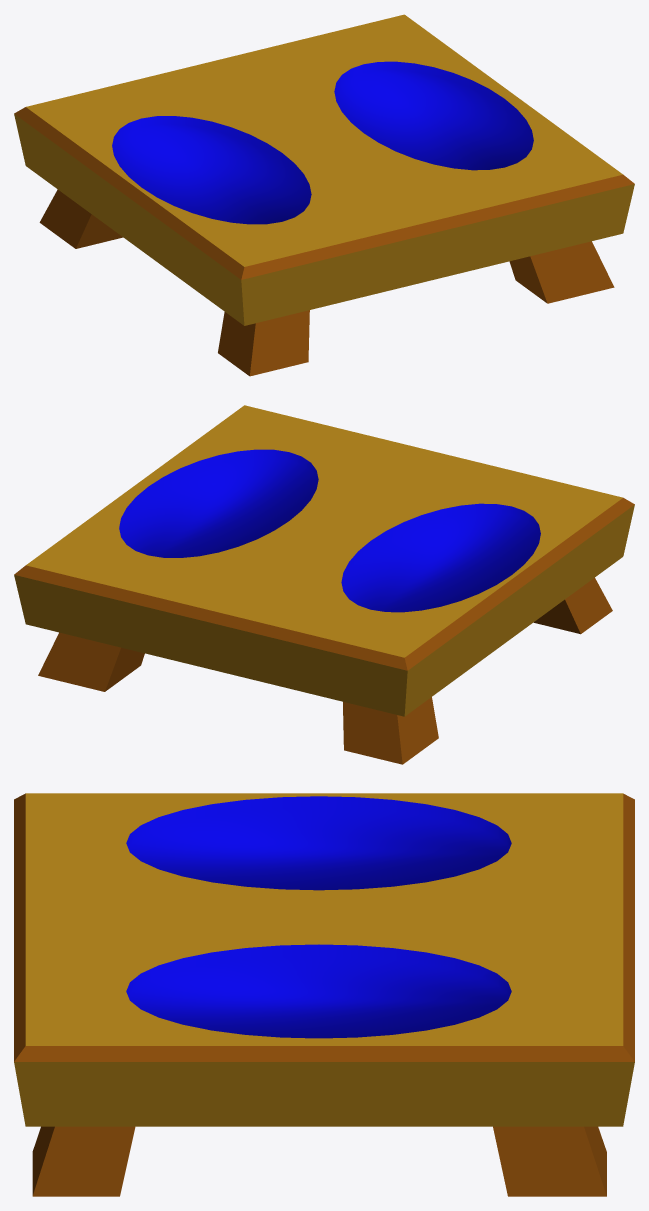
The model's file is stand.fbx.
3 renders of one model, top to bottom at view 1: azimuth 30°, elevation 25°; view 2: azimuth 150°, elevation 25°; view 3: azimuth 270°, elevation 25°, orthographic. The views are drawn at different scales.
Visible parts, largest first — view 1: Cube; view 2: Cube; view 3: Cube.
Boxes of the visible parts, bbox=[...] form: Cube: bbox=[14, 14, 634, 376]; Cube: bbox=[14, 405, 634, 764]; Cube: bbox=[14, 793, 634, 1196].
Bounding box in the file's own units: 320 × 88.08 × 320.
